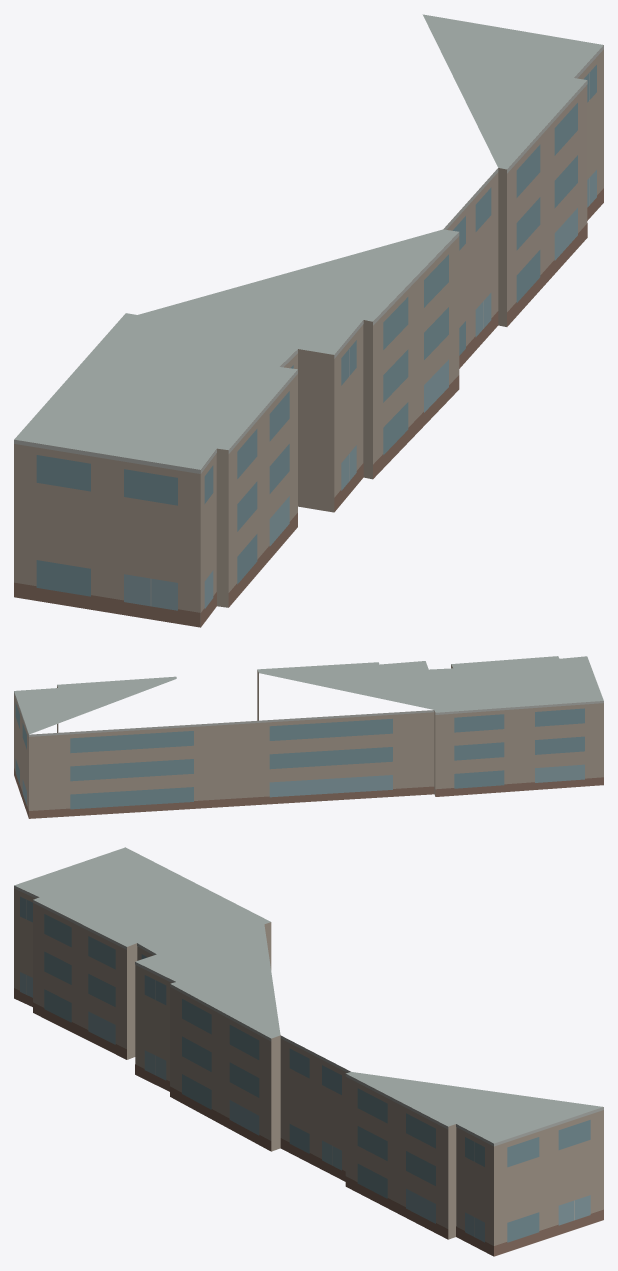
File: survey-upis-32681202.glb
3 renders of one model, top to bottom at view 1: azimuth 30°, elevation 25°; view 2: azimuth 150°, elevation 25°; view 3: azimuth 270°, elevation 25°, orthographic. The views are drawn at different scales.
Visible parts, largest first — view 1: survey-upis-32681202.tmp; view 2: survey-upis-32681202.tmp; view 3: survey-upis-32681202.tmp.
Part boxes in pixels (<box>): survey-upis-32681202.tmp: <box>14,14,603,627</box>; survey-upis-32681202.tmp: <box>14,656,603,818</box>; survey-upis-32681202.tmp: <box>14,847,603,1256</box>.
Size of the model in its own units: 51.44 by 9.15 by 43.28.
